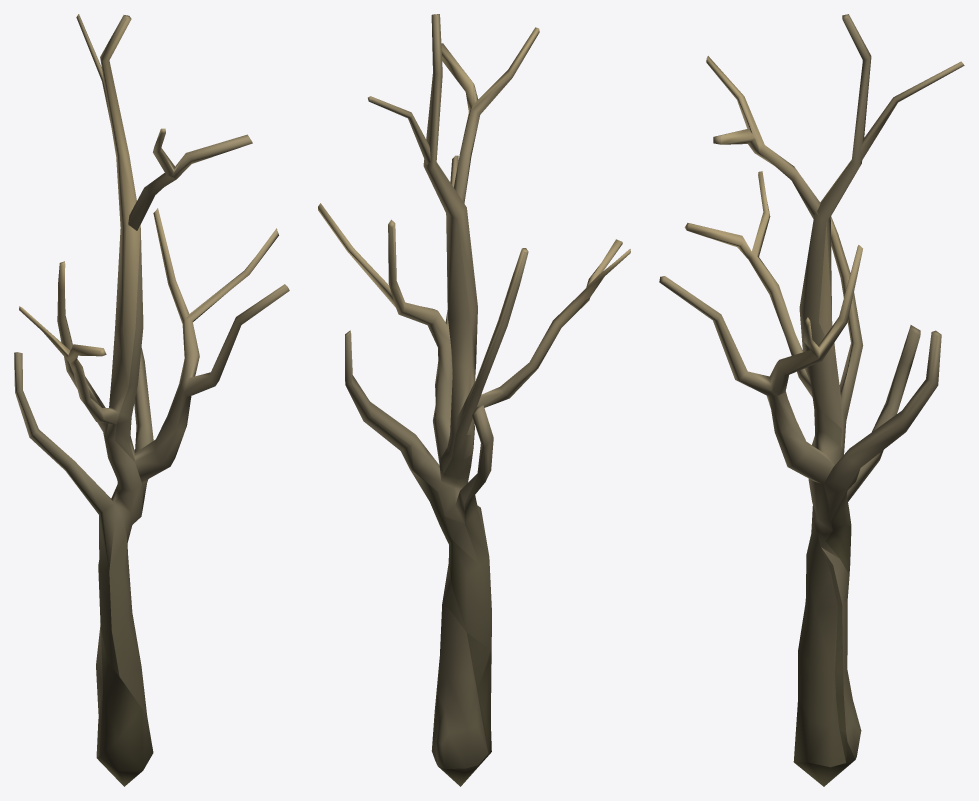
File: Dry_Tree_1C.fbx
3 views of the same model, side by side, from view 1: azimuth 30°, elevation 25°; view 2: azimuth 150°, elevation 25°; view 3: azimuth 270°, elevation 25° (orthographic). The views are drawn at different scales.
Parts seen in each view (by area): view 1: Dry_Tree_1C; view 2: Dry_Tree_1C; view 3: Dry_Tree_1C.
Part boxes in pixels (<box>): Dry_Tree_1C: <box>14,14,289,786</box>; Dry_Tree_1C: <box>318,14,630,786</box>; Dry_Tree_1C: <box>659,14,964,786</box>.
Size of the model in its own units: 544 by 1400 by 497.
